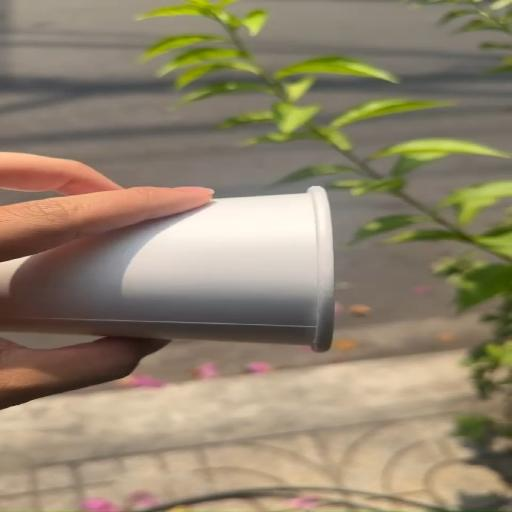Ly_giay: (0, 186, 333, 351)
